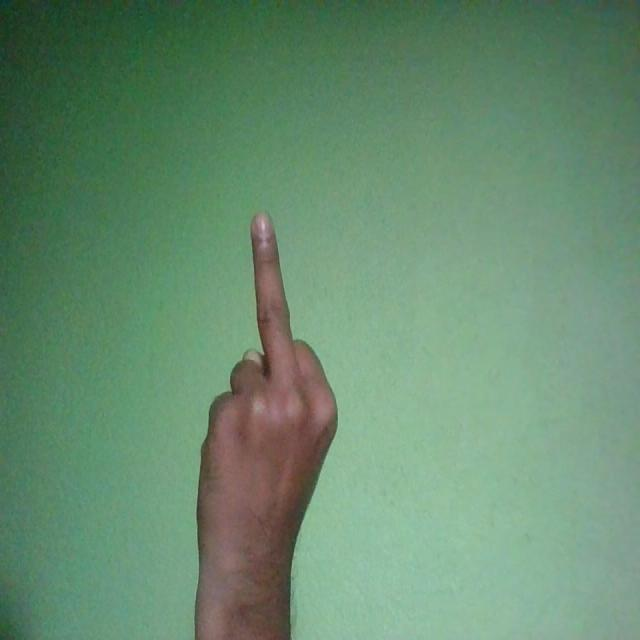Middle Finger: (196, 209, 339, 618)
